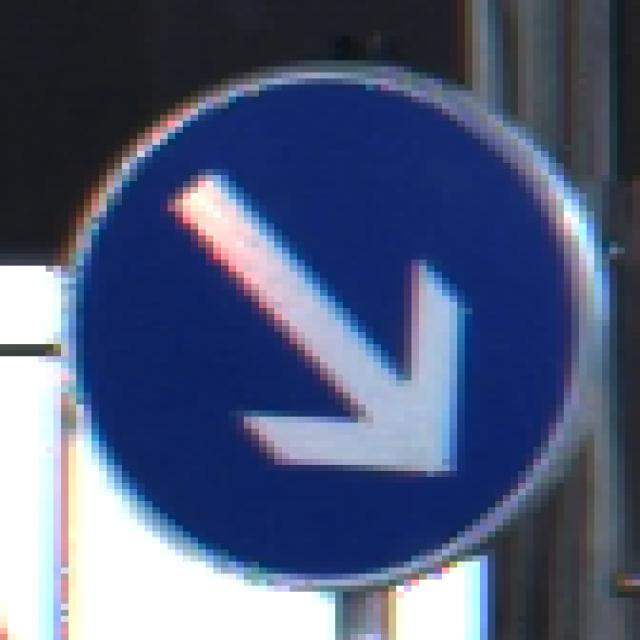compulsary keep right: (67, 59, 613, 589)
